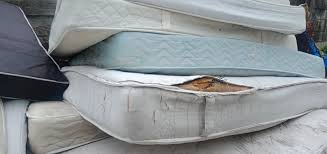bed-matress: (56, 65, 327, 143), (43, 1, 313, 58), (66, 32, 326, 77), (1, 1, 70, 103), (130, 1, 309, 36)
